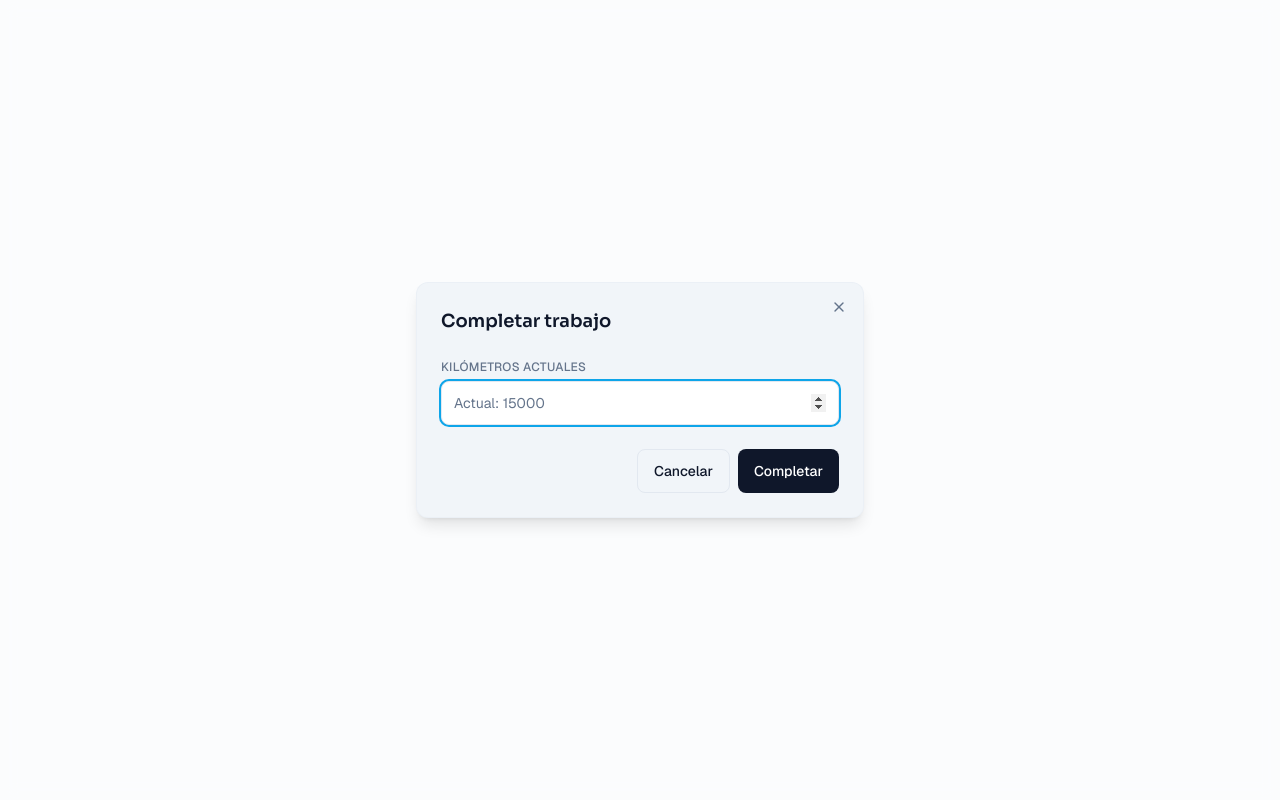
JobUsageValueModal › blocks submission and shows an error when completing with a value below the vehicle's current usage
Type "10000" into the number field labelled "Kilómetros actuales" at point(640, 403), box [441,381,839,425]
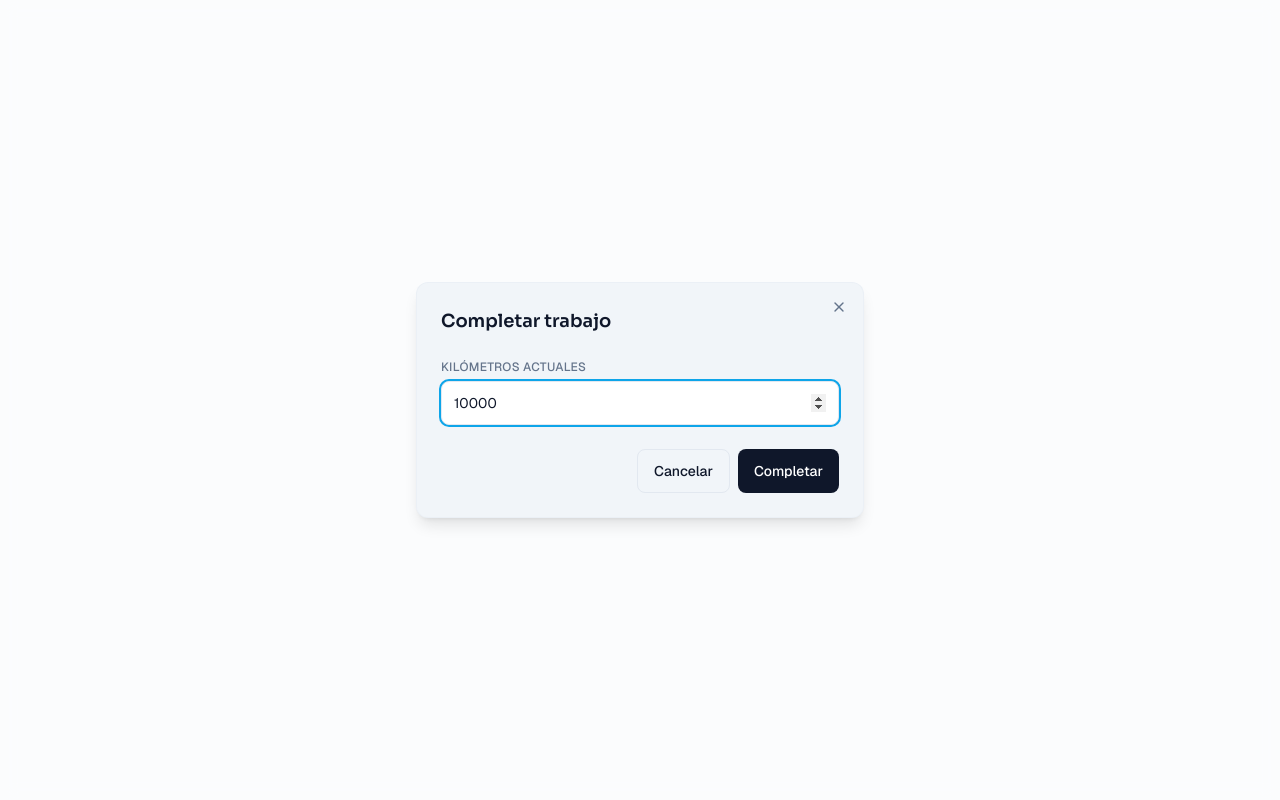
Click the button "Completar" at point(788, 471), box [738,449,839,493]
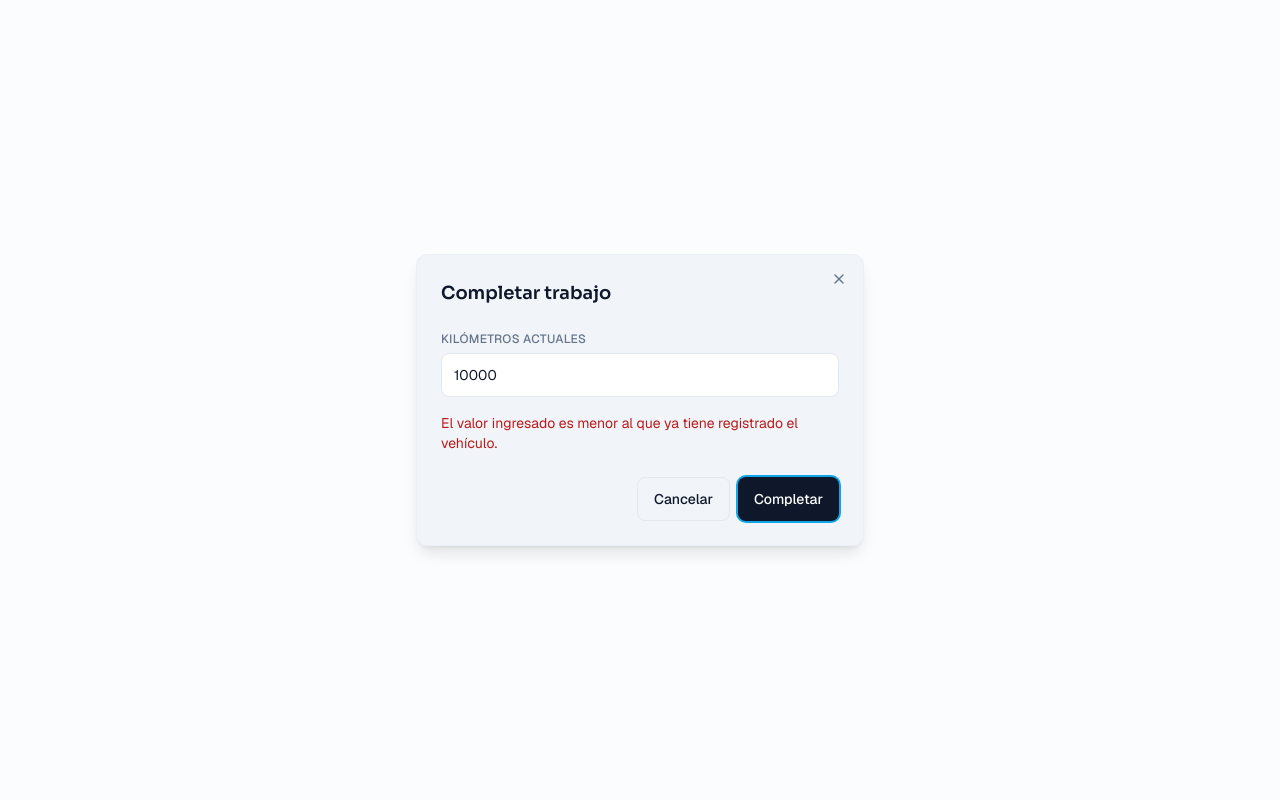
Check: the message shows "El valor ingresado es menor al que ya tiene registrado el vehículo", box [441,414,798,452]
